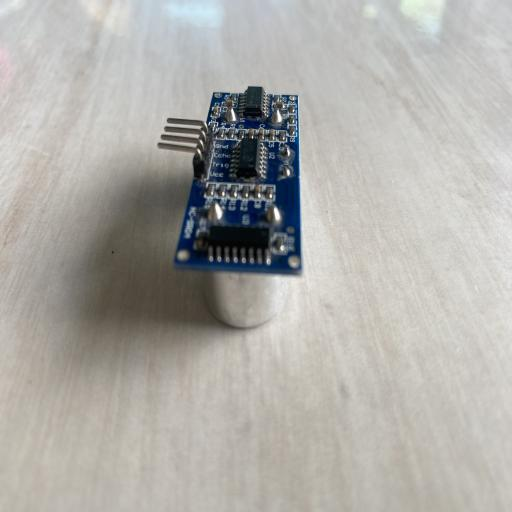Ultrasonic Sensor: (158, 84, 304, 328)
